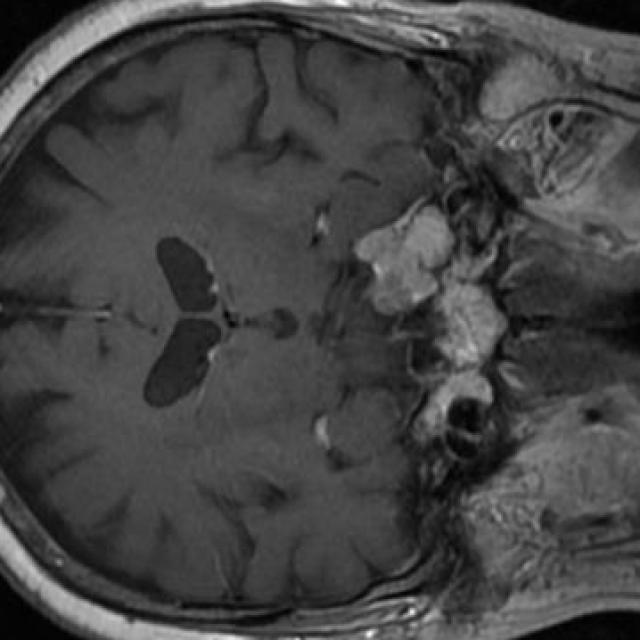meningioma: (355, 205, 455, 316)
